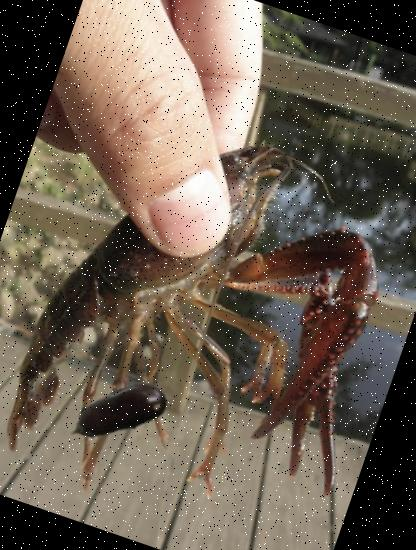Eggplant: (50, 346, 186, 481)
